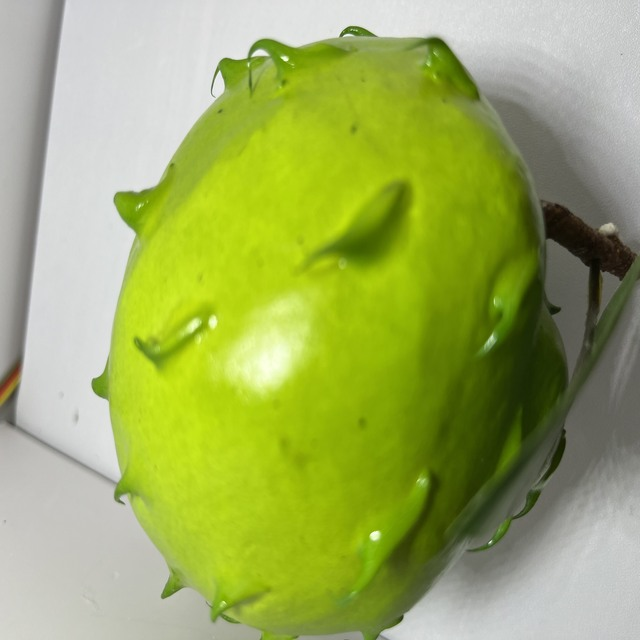Man cau: (88, 15, 572, 640)
